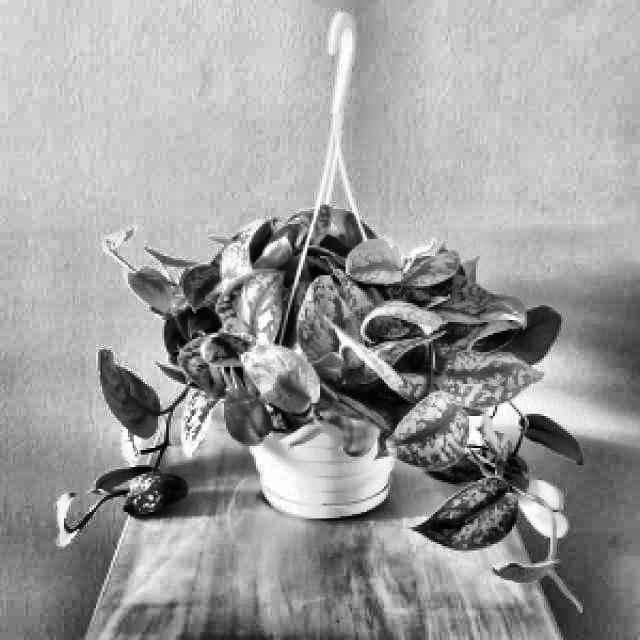plants: (57, 201, 574, 605)
